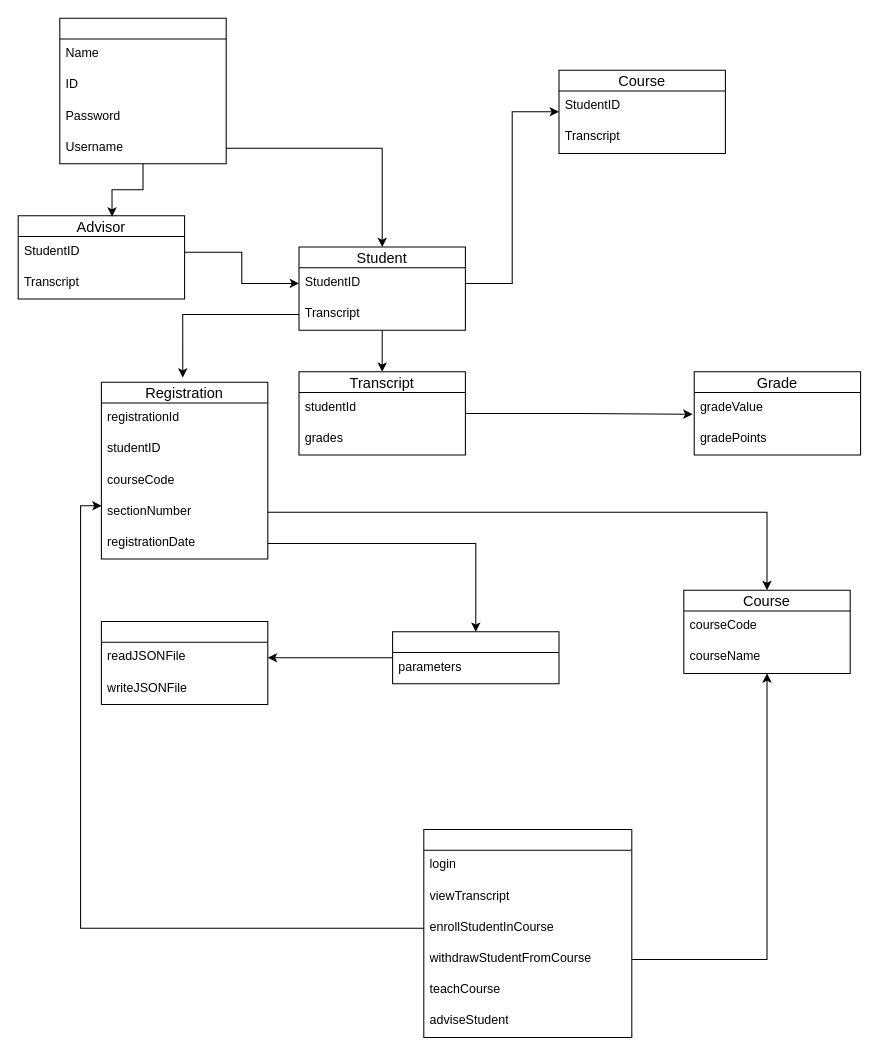
Some shapes in this 879 by 1059 pixel diagram are drawn without their labels. Each missing label, with the box of its shape:
CourseRegistrationSystem: (423, 828, 632, 1037)
JSONFileManager: (100, 620, 268, 705)
Person: (59, 17, 226, 164)
SystemParameters: (392, 631, 559, 684)
